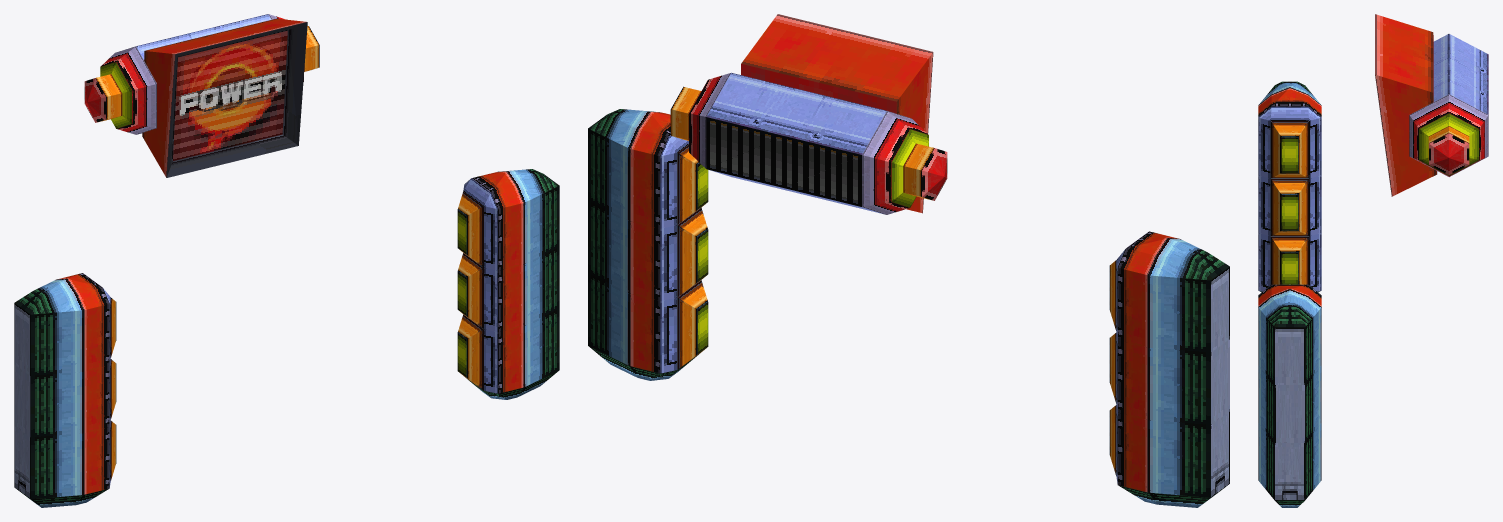
File: change_power.obj
The picture shows the model from 3 angles, left to right: view 1: azimuth 30°, elevation 25°; view 2: azimuth 150°, elevation 25°; view 3: azimuth 270°, elevation 25°; orthographic projection. The views are drawn at different scales.
Parts seen in each view (by area): view 1: Object_2, Object_6, Object_4, Object_3, Object_1; view 2: Object_2, Object_6, Object_4, Object_3, Object_1; view 3: Object_2, Object_4, Object_6, Object_5, Object_1.
Part boxes in pixels (x1=…): Object_2: x1=84, y1=14, x2=319, y2=177; Object_6: x1=14, y1=273, x2=116, y2=507; Object_4: x1=457, y1=169, x2=559, y2=399; Object_3: x1=457, y1=210, x2=466, y2=377; Object_1: x1=100, y1=62, x2=131, y2=128; Object_2: x1=670, y1=14, x2=947, y2=214; Object_6: x1=1109, y1=231, x2=1229, y2=507; Object_4: x1=588, y1=109, x2=707, y2=380; Object_3: x1=697, y1=163, x2=708, y2=353; Object_1: x1=891, y1=129, x2=928, y2=207; Object_2: x1=1375, y1=14, x2=1488, y2=196; Object_4: x1=1258, y1=284, x2=1321, y2=507; Object_6: x1=1258, y1=81, x2=1321, y2=292; Object_5: x1=1281, y1=137, x2=1298, y2=284; Object_1: x1=1419, y1=113, x2=1478, y2=175.
Bounding box in the file's own units: 72 × 48.49 × 28.97.
7 materials, 7 textured.
